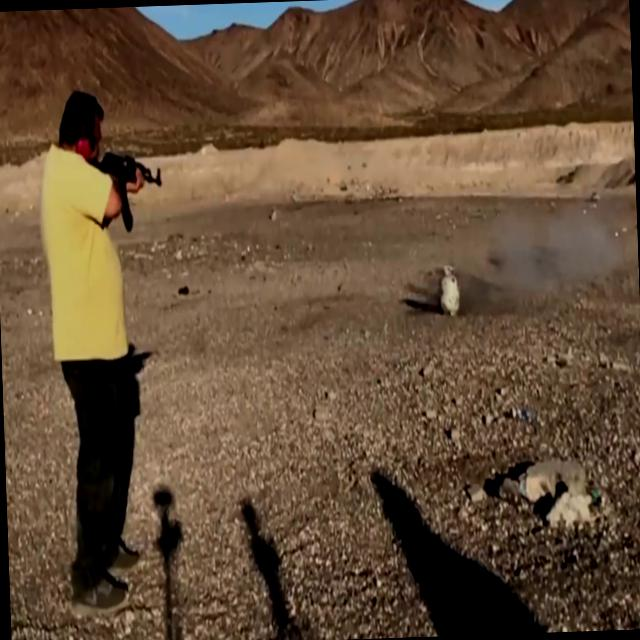long weapon: (73, 140, 184, 232)
